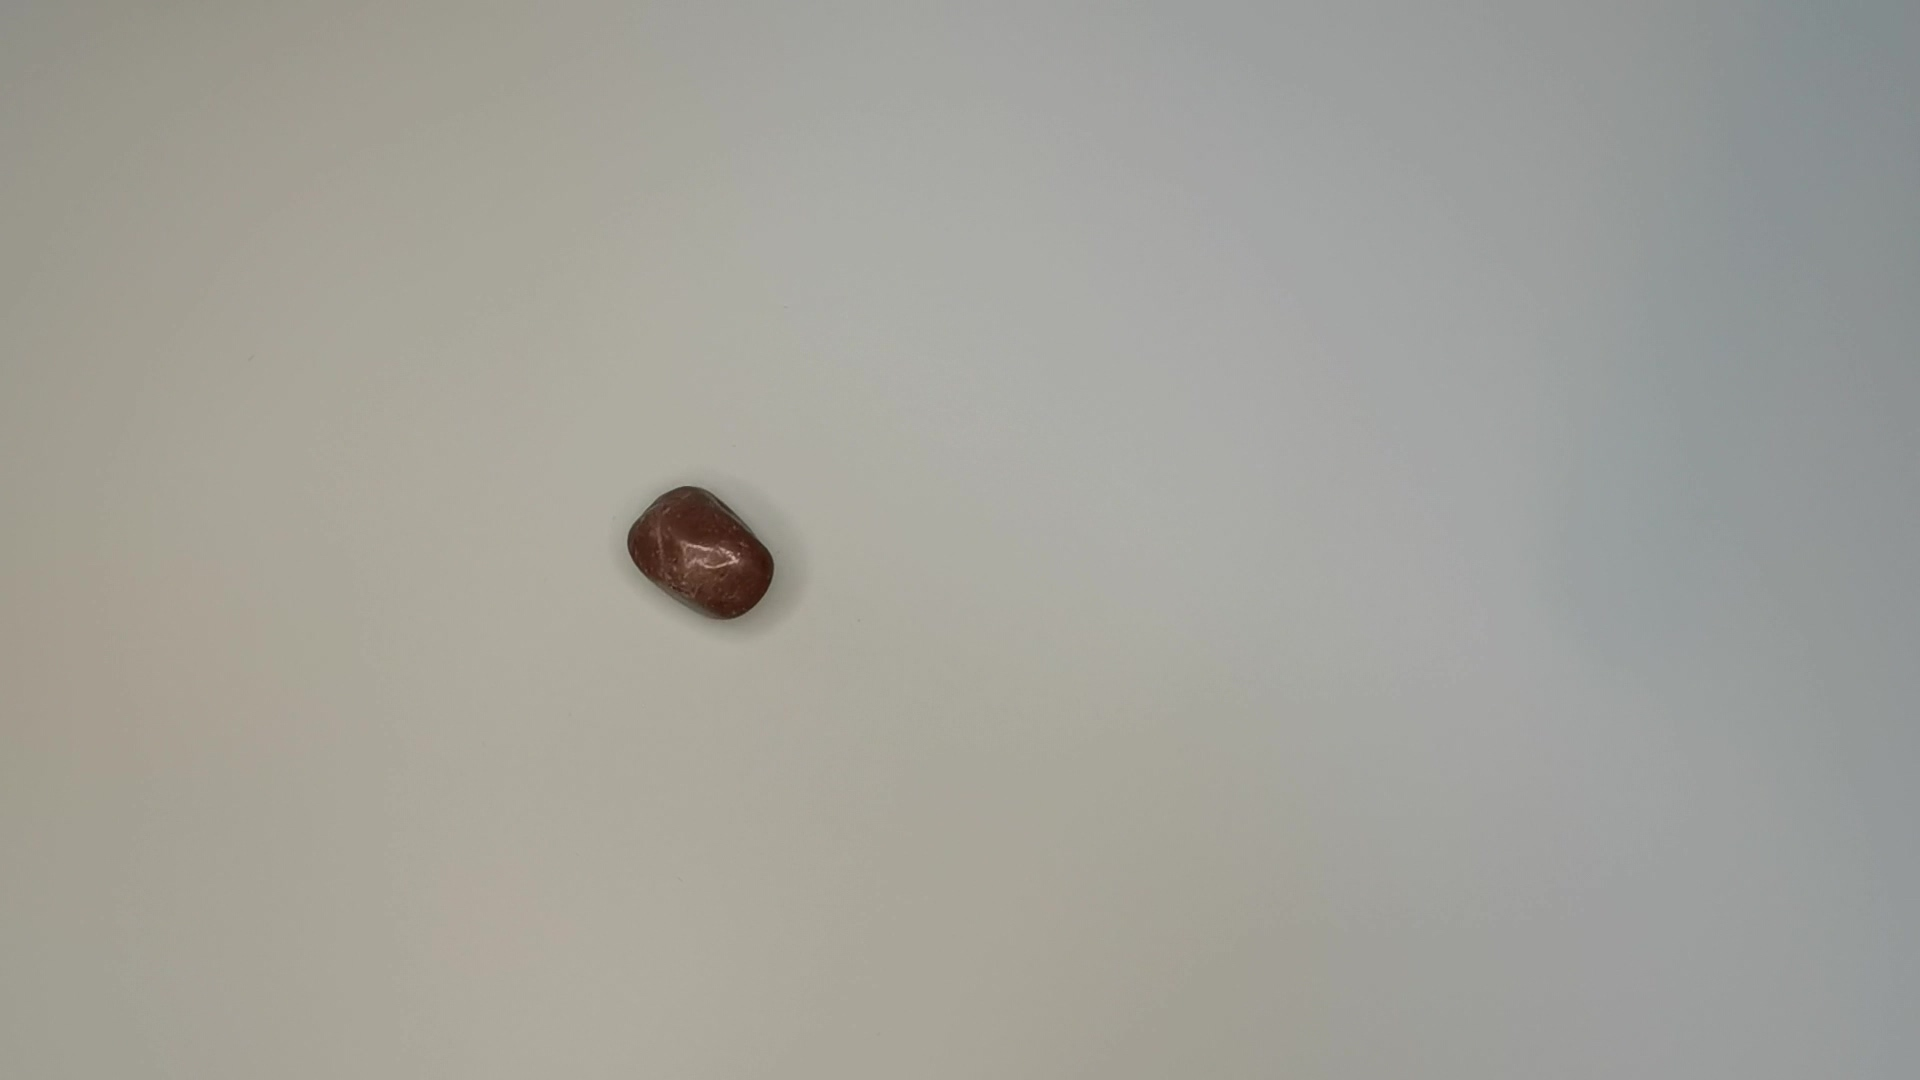ceramic: (626, 487, 785, 626)
